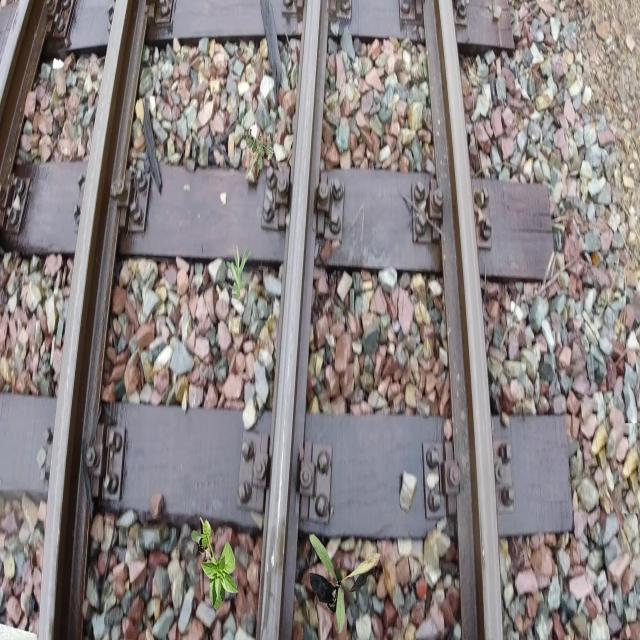Plant: (309, 534, 381, 634), (191, 517, 239, 612), (226, 243, 252, 300), (246, 129, 274, 170)
